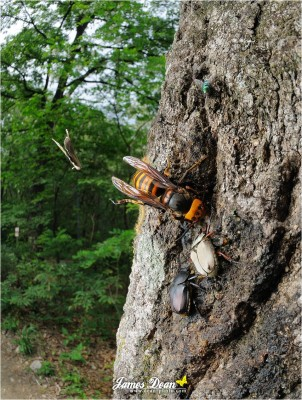asian_giant_hornet: (114, 152, 212, 225)
